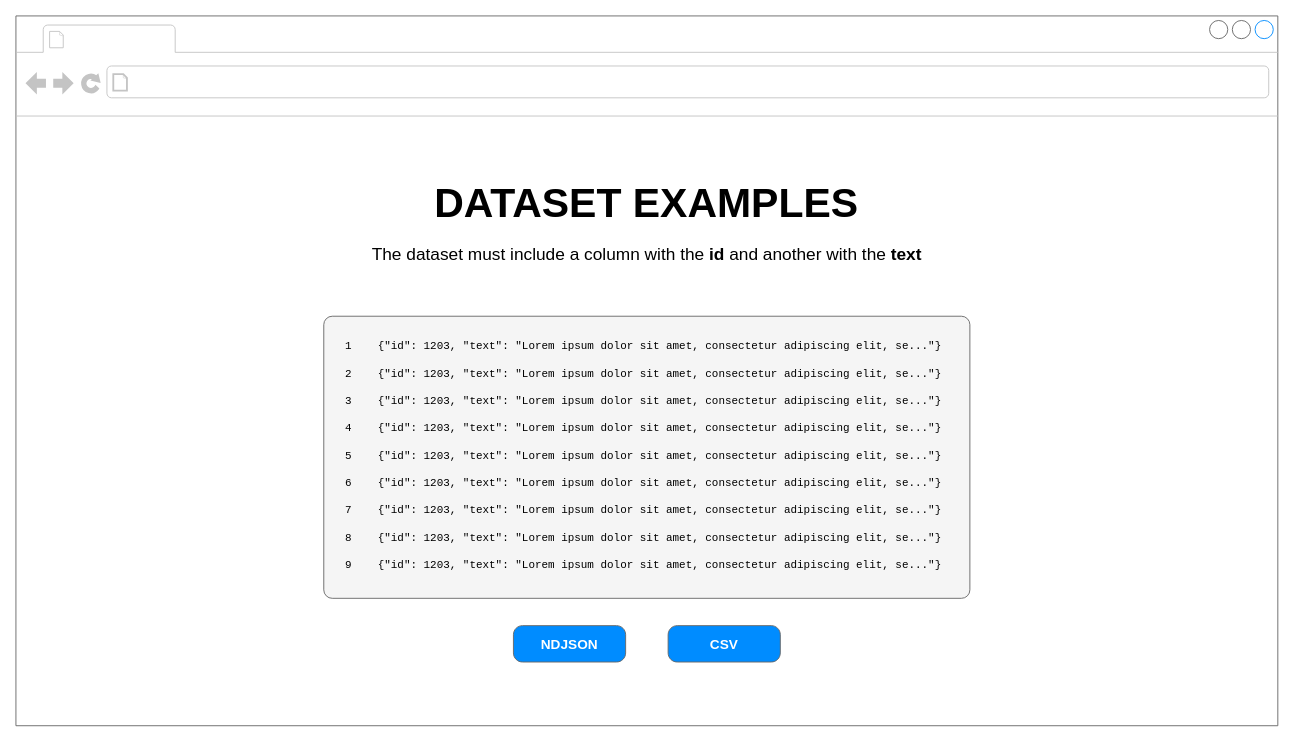
The diagram is 1294 pixels wide and 742 high, and some of its shapes have lost their labels. The centre of each missing label's shape, as x and y in pixels:
"https://www.draw.io" goes at pixel 247 82.
"Page 1" goes at pixel 120 38.
